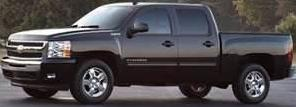front_view: (0, 32, 74, 92)
headlight: (43, 39, 74, 62)
side_glass: (133, 6, 215, 40)
